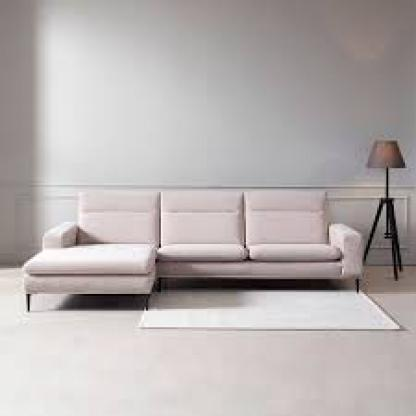sofa: (24, 189, 364, 314)
